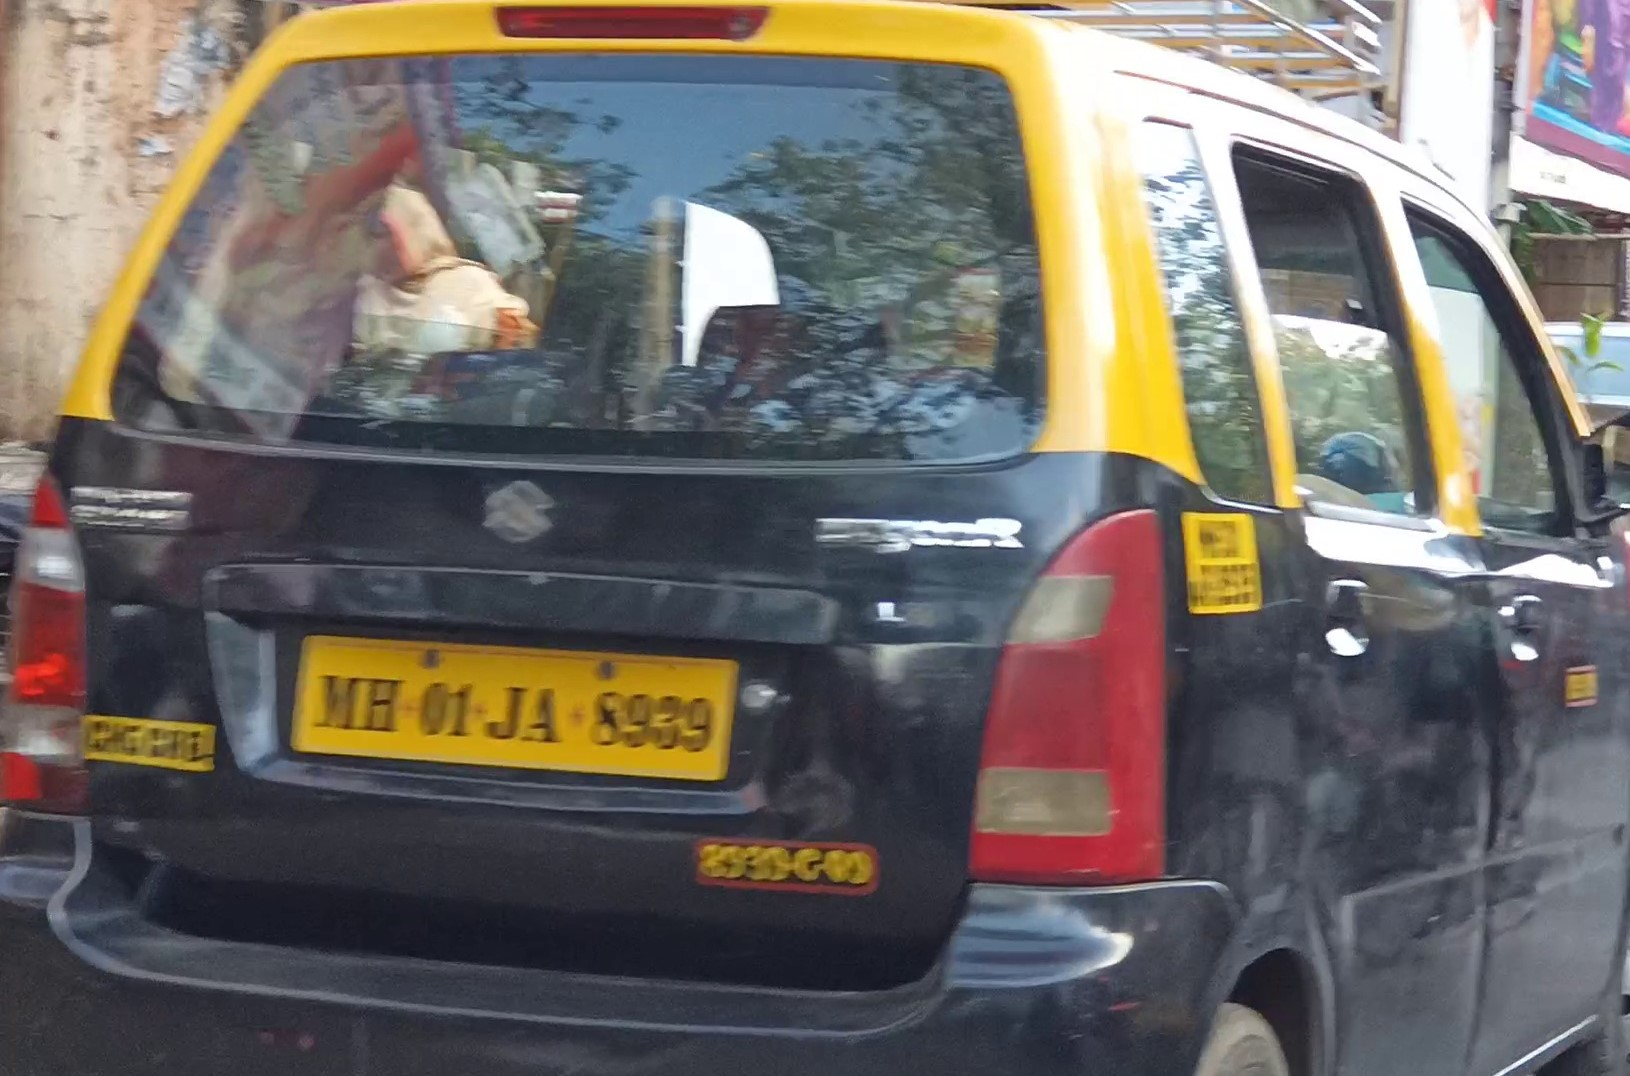MH01JA8939: (292, 632, 737, 782)
